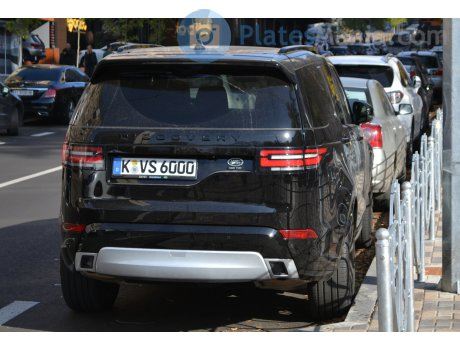License Plates: (120, 157, 198, 172)
